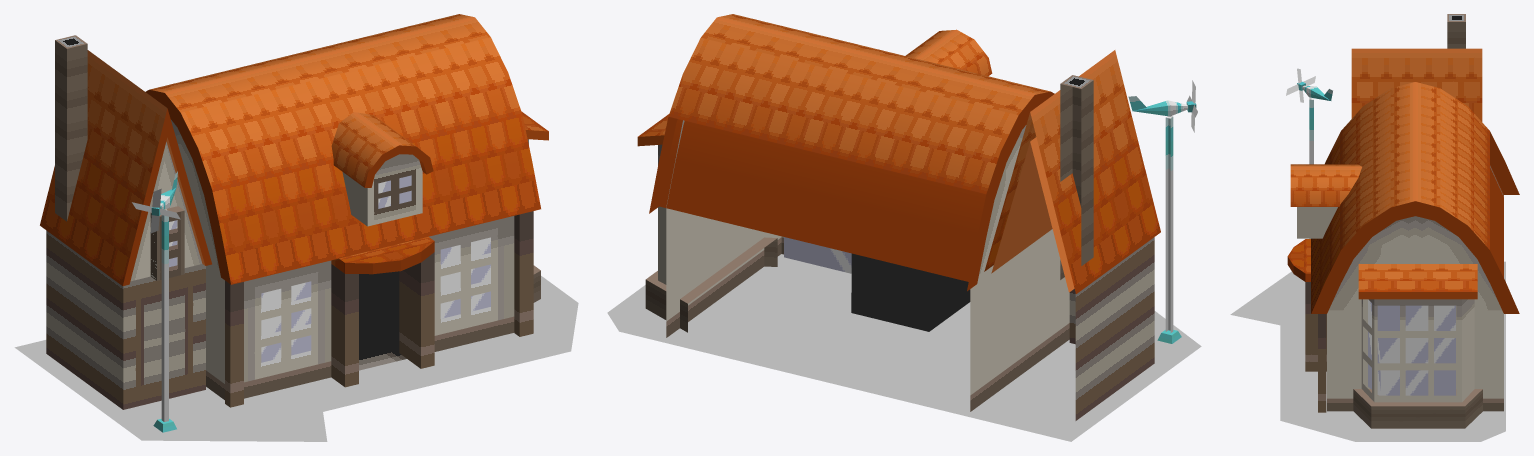
The picture shows the model from 3 angles, left to right: view 1: azimuth 30°, elevation 25°; view 2: azimuth 150°, elevation 25°; view 3: azimuth 270°, elevation 25°; orthographic projection. The views are drawn at different scales.
Parts seen in each view (by area): view 1: polygon2, polygon1, polygon4, polygon3, polygon0, polygon5, polygon7; view 2: polygon2, polygon4, polygon3, polygon1, polygon5, polygon0, polygon6; view 3: polygon2, polygon3, polygon4, polygon0, polygon1, polygon5, polygon7, polygon6.
Part boxes in pixels (box(x1,y1,x2,y2)): polygon2: box(40, 14, 548, 285); polygon1: box(46, 154, 533, 409); polygon4: box(14, 276, 578, 441); polygon3: box(55, 35, 540, 399); polygon0: box(169, 175, 490, 362); polygon5: box(153, 209, 176, 432); polygon7: box(132, 188, 180, 233); polygon2: box(637, 14, 1160, 293); polygon4: box(607, 254, 1201, 441); polygon3: box(645, 75, 1093, 411); polygon1: box(781, 236, 1154, 420); polygon5: box(1157, 116, 1181, 343); polygon0: box(784, 237, 851, 273); polygon6: box(1128, 96, 1187, 116); polygon2: box(1287, 48, 1519, 313); polygon3: box(1327, 14, 1503, 428); polygon4: box(1230, 261, 1505, 441); polygon0: box(1368, 299, 1455, 395); polygon1: box(1297, 207, 1337, 412); polygon5: box(1309, 98, 1313, 238); polygon7: box(1286, 68, 1315, 102); polygon6: box(1302, 85, 1332, 100).
Bounding box in the file's own units: 8.56 × 5.58 × 5.78.
